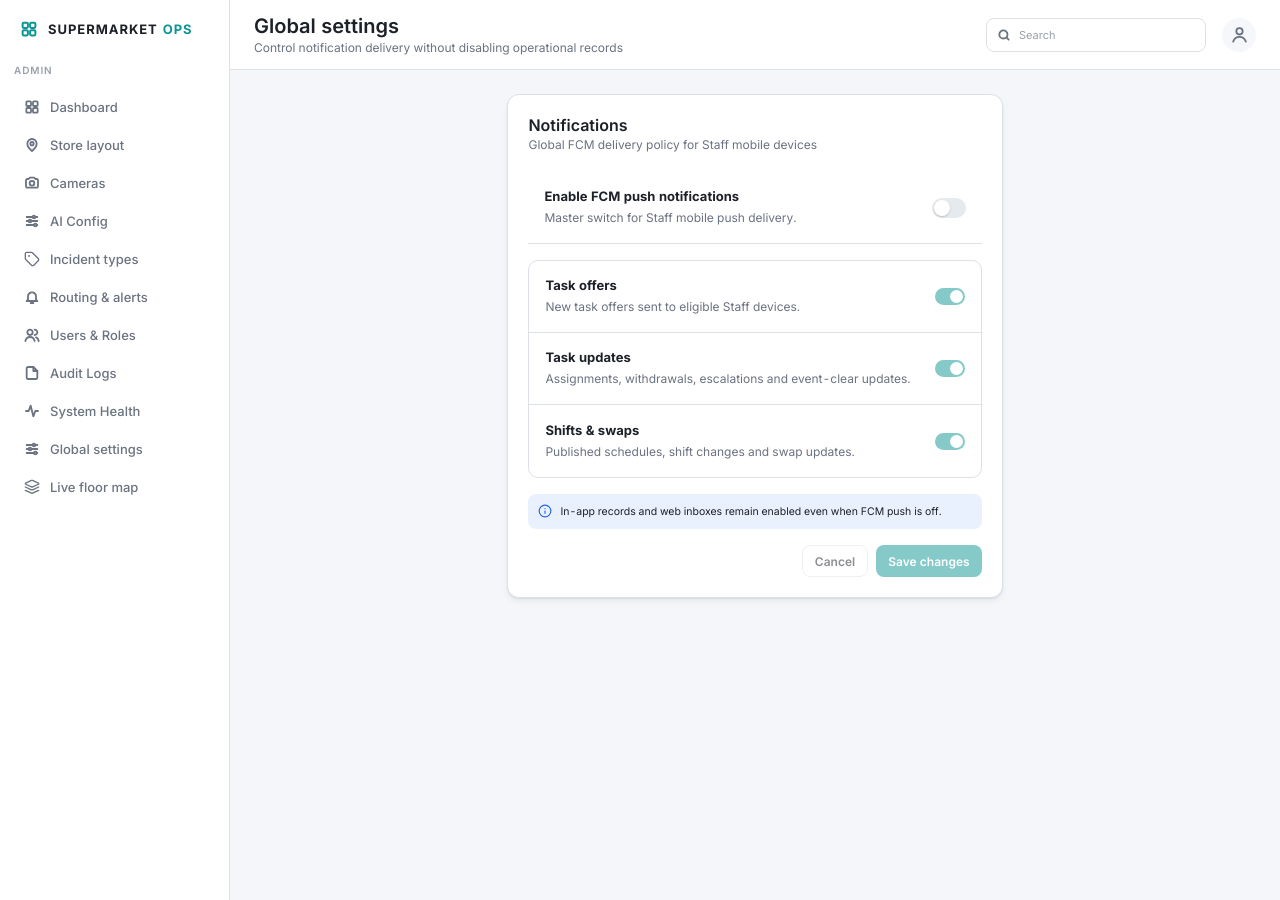
it: Global notification settings › loads effective values, keeps categories while master is off, and saves a typed policy
Expected: the switch named "Task offers" is disabled, [935,288,965,305]
Click the switch named "Enable FCM push notifications". click: [949, 208]
box: [932,198,966,218]
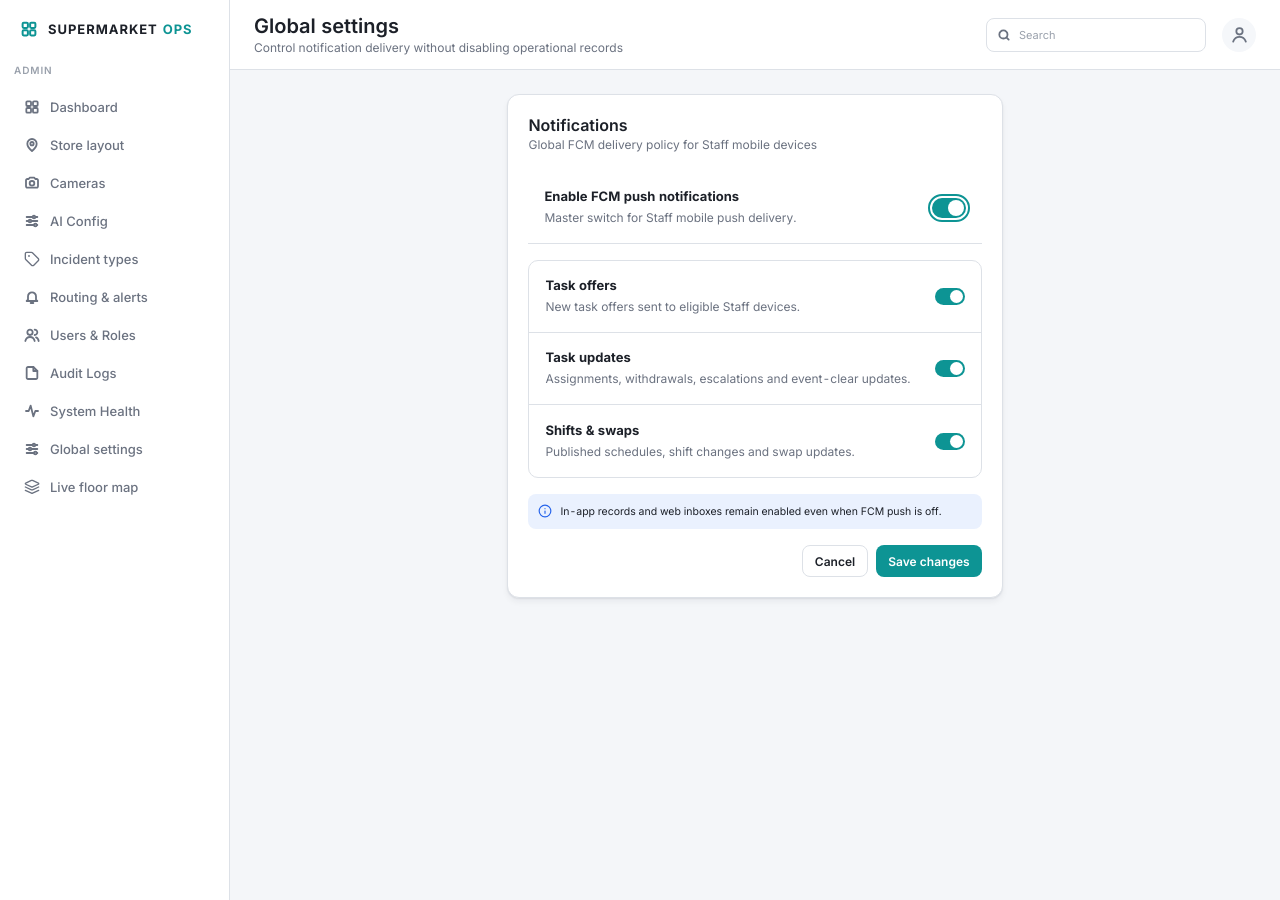
Click the switch named "Task updates". click: [950, 368]
box: [935,360,965,377]
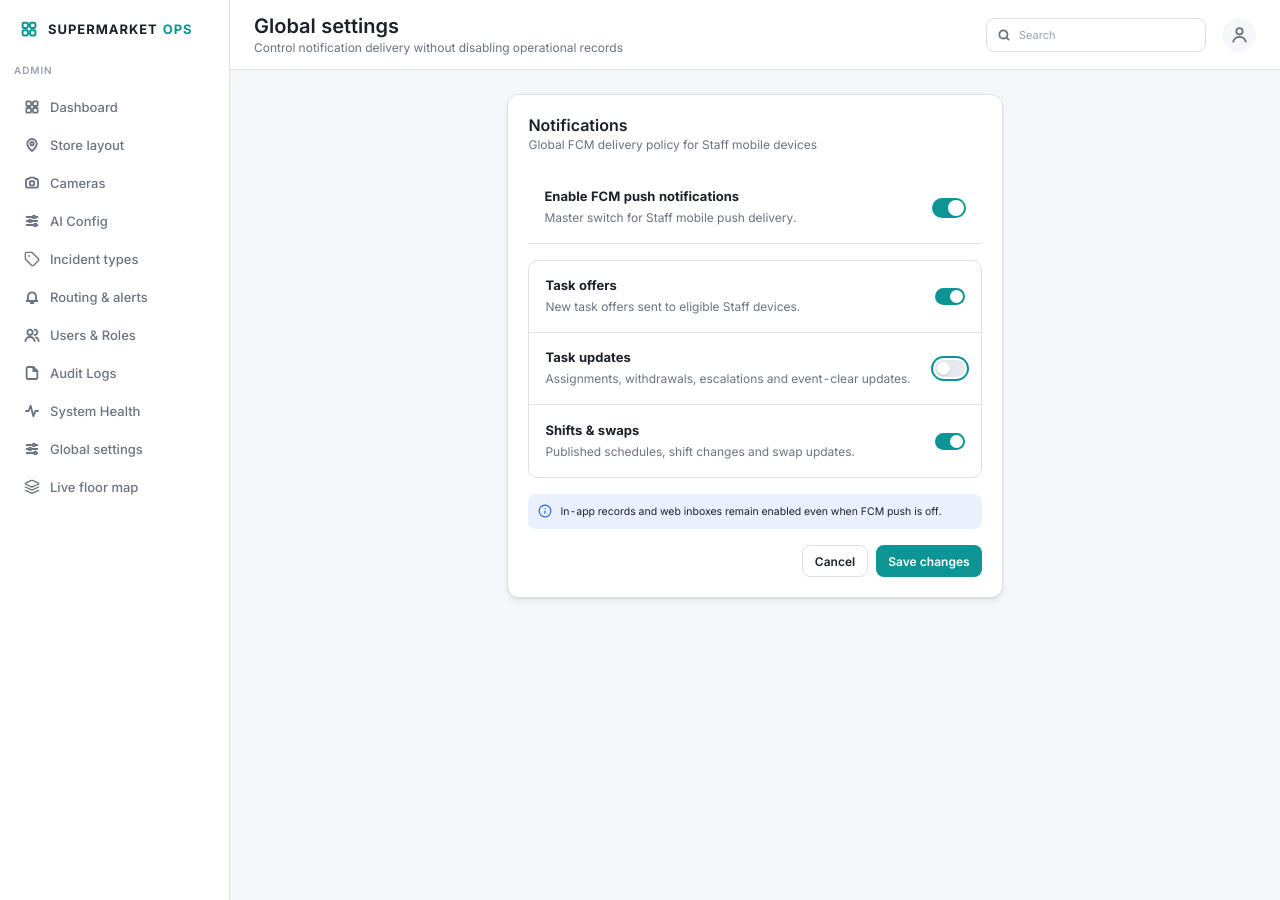
Click the button "Save changes". click: [929, 561]
box: [876,545,982,577]
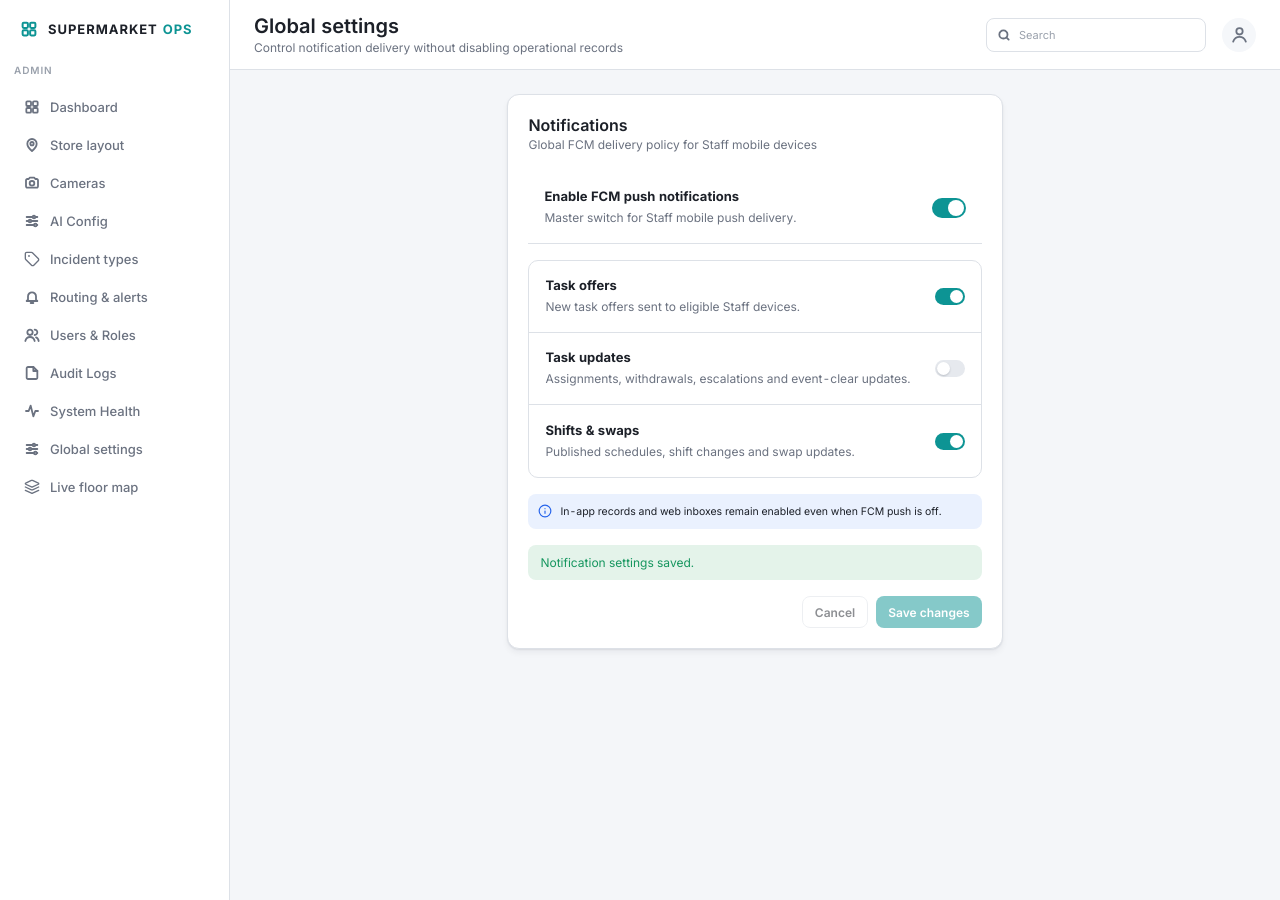
Now the message shows "Notification settings saved", box [540,555,694,570]
